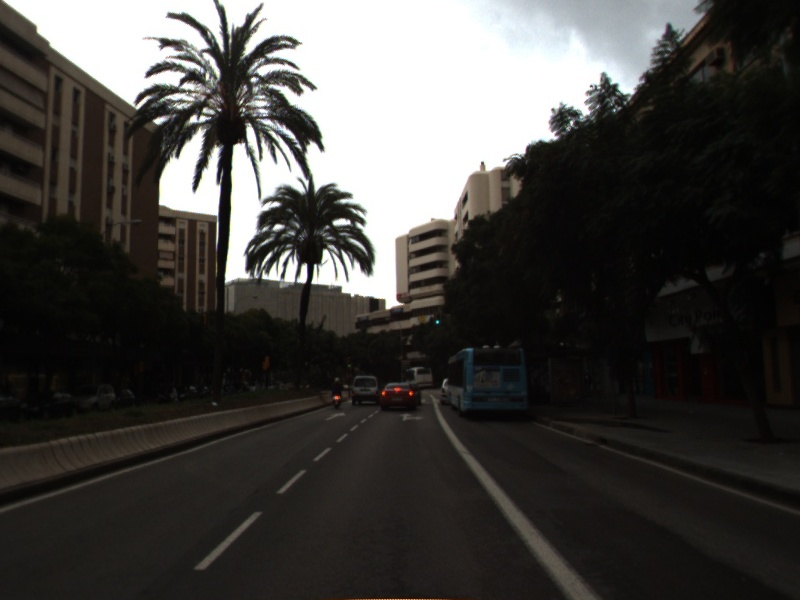STRAIGHT: (323, 410, 348, 423)
STRAIGHT_RIGHT: (395, 411, 426, 423)
